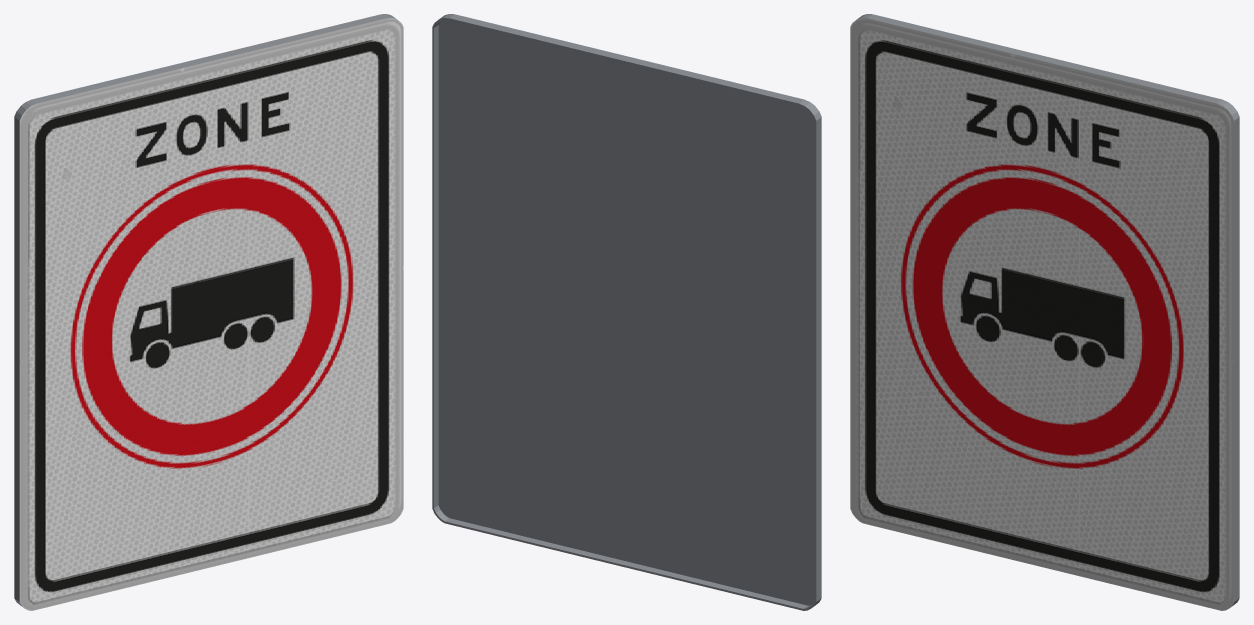
3 views of the same model, side by side, from view 1: azimuth 30°, elevation 25°; view 2: azimuth 150°, elevation 25°; view 3: azimuth 330°, elevation 25° (orthographic).
Visible parts, largest first — view 1: cat_b428929186157973; view 2: cat_b428929186157973; view 3: cat_b428929186157973.
Boxes of the visible parts, x1,y1,x2,y2 form: cat_b428929186157973: (14,14,403,610); cat_b428929186157973: (432,14,821,610); cat_b428929186157973: (850,14,1239,610).
Bounding box in the file's own units: 0.6 × 0.015 × 0.7558.
Materials: 2 (1 with a texture image).
